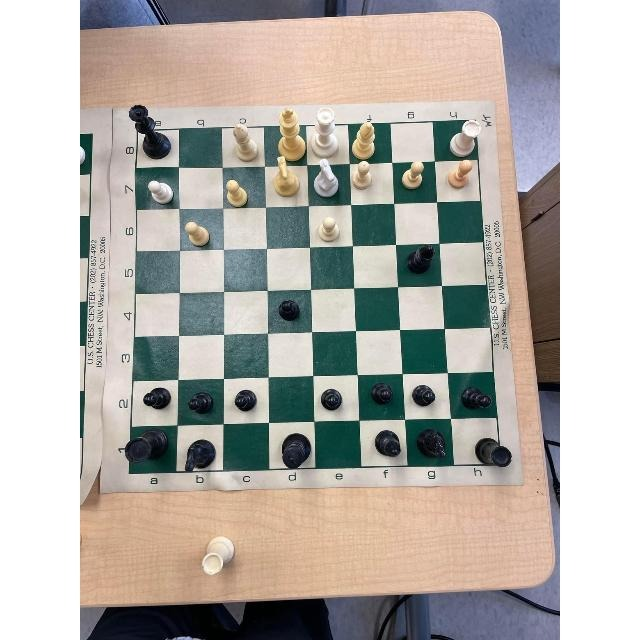black-bishop: (407, 244, 435, 272), (374, 429, 400, 457)
black-king: (281, 432, 311, 469)
black-knight: (184, 438, 216, 473), (418, 428, 447, 460)
black-pawn: (460, 387, 492, 411), (187, 391, 214, 415), (144, 386, 172, 409), (411, 383, 436, 406), (370, 381, 393, 405), (321, 388, 343, 411), (277, 300, 302, 320), (235, 388, 256, 411)
black-queen: (130, 104, 172, 160)
black-rook: (124, 427, 169, 463), (475, 436, 513, 468)
white-bishop: (351, 122, 379, 160), (232, 124, 259, 162)
white-king: (277, 106, 306, 161)
white-knight: (273, 156, 301, 195), (314, 158, 341, 197)
white-pawn: (147, 178, 175, 204), (448, 160, 474, 188), (184, 221, 211, 246), (402, 160, 426, 188), (225, 179, 248, 206), (317, 216, 341, 241), (352, 161, 372, 189)
white-queen: (312, 107, 339, 158)
white-rook: (448, 120, 481, 156)
